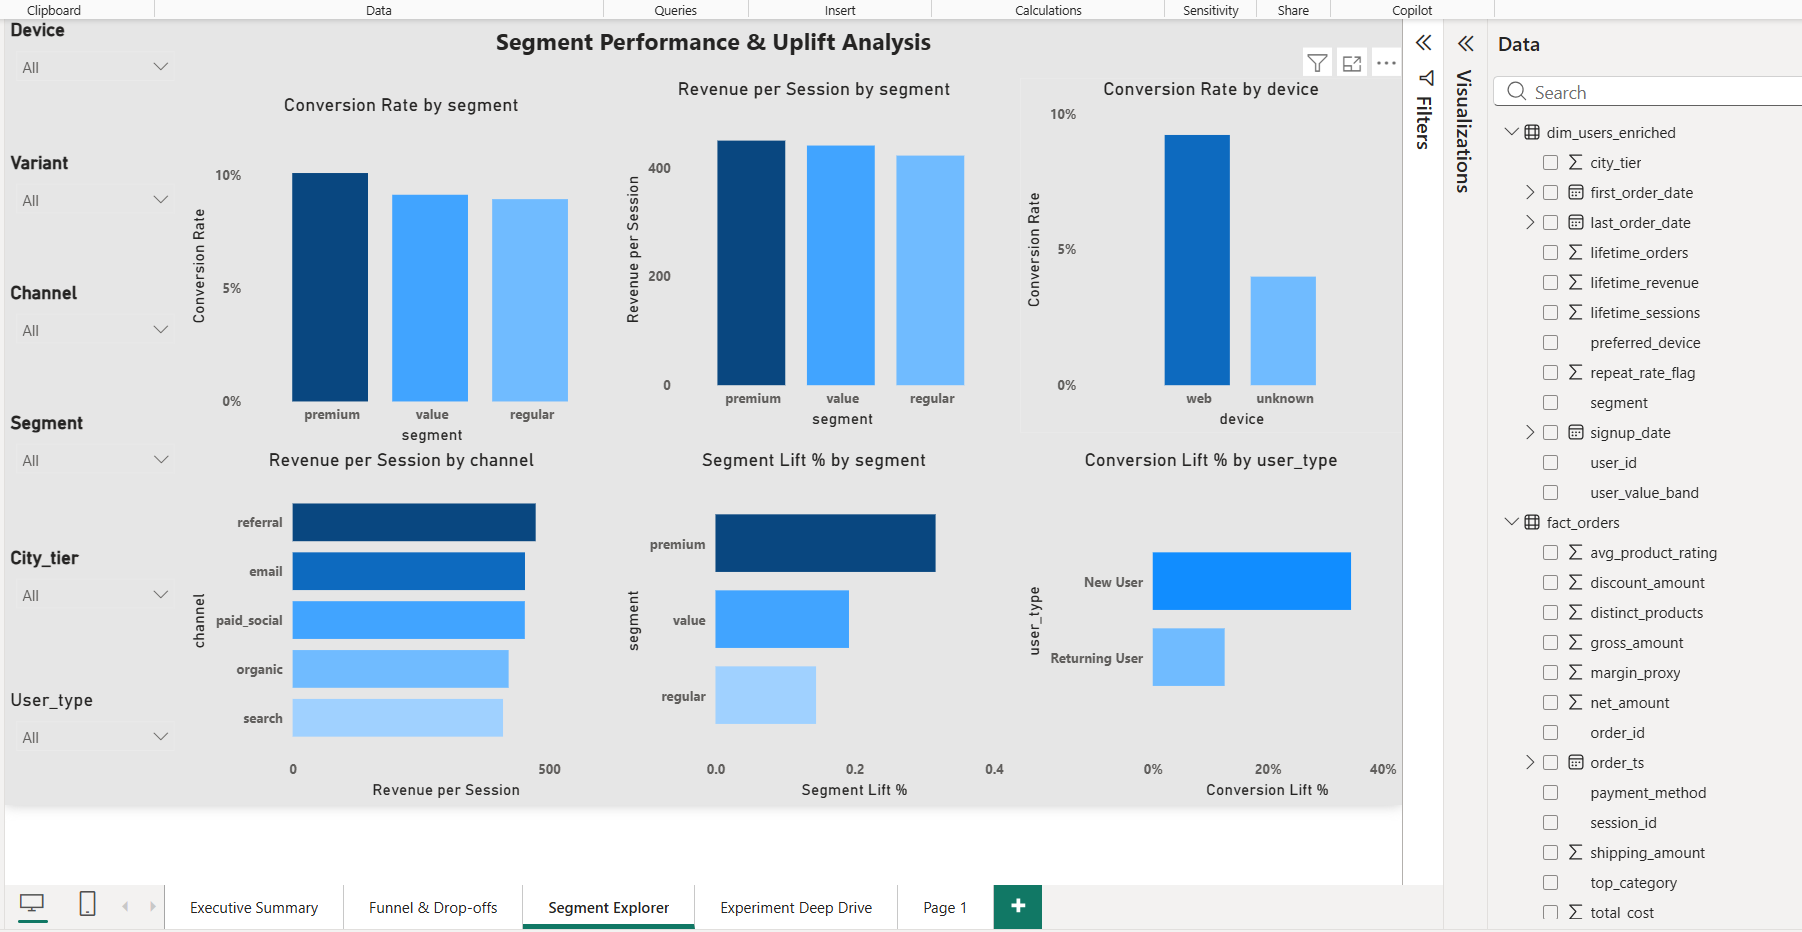

What the dashboard file says about the page in this screenshot:
{"tool":"powerbi","page":{"name":"Segment Explorer","canvas":[1280,720],"ordinal":2},"visuals":[{"type":"slicer","title":"City_tier","fields":{"Values":["dim_users_enriched.city_tier"]},"box":[0,482.7,164.9,106.9],"z":0},{"type":"slicer","title":"Segment","fields":{"Values":["dim_users_enriched.segment"]},"box":[0,359.2,165.3,106.9],"z":1},{"type":"slicer","title":"Channel","fields":{"Values":["fact_sessions.channel"]},"box":[0,240.6,164.9,106.9],"z":2},{"type":"slicer","title":"Device","fields":{"Values":["fact_sessions.device"]},"box":[0,0,164.9,106.9],"z":3},{"type":"slicer","title":"User_type","fields":{"Values":["fact_sessions.user_type"]},"box":[0,613.4,164.9,106.9],"z":4},{"type":"slicer","title":"Variant","fields":{"Values":["fact_sessions.variant"]},"box":[0,121.8,164.9,98],"z":5},{"type":"clusteredColumnChart","fields":{"Category":["dim_users_enriched.segment"],"Y":["measures_.Conversion Rate"]},"box":[165.3,68.4,396.5,325.7],"z":6},{"type":"clusteredColumnChart","fields":{"Category":["dim_users_enriched.segment"],"Y":["measures_.Revenue per Session"]},"box":[561.8,53.4,358,325.7],"z":7},{"type":"clusteredColumnChart","fields":{"Category":["fact_sessions.device"],"Y":["measures_.Conversion Rate"]},"box":[929.7,53.4,350.5,325.7],"z":8},{"type":"barChart","fields":{"Category":["fact_sessions.channel"],"Y":["measures_.Revenue per Session"]},"box":[165.3,394,396.5,325.7],"z":9},{"type":"barChart","fields":{"Category":["dim_users_enriched.segment"],"Y":["measures_.Segment Lift %"]},"box":[561.8,394,358,325.7],"z":10},{"type":"textbox","box":[223.7,0,851.4,41],"z":11},{"type":"barChart","fields":{"Category":["fact_sessions.user_type"],"Y":["measures_.Conversion Lift %"]},"box":[929.7,394,350.5,325.7],"z":12}]}

Visuals, with their boxes on the page's 1280x720 design canvas (x1, y1, x2, y2). These are canvas units, not pixel positions in the 1802x932 screenshot, which may show the page scaled, cropped or inside an application window:
"City_tier" slicer: [left=0, top=483, right=165, bottom=590]
"Segment" slicer: [left=0, top=359, right=165, bottom=466]
"Channel" slicer: [left=0, top=241, right=165, bottom=348]
"Device" slicer: [left=0, top=0, right=165, bottom=107]
"User_type" slicer: [left=0, top=613, right=165, bottom=720]
"Variant" slicer: [left=0, top=122, right=165, bottom=220]
clusteredColumnChart - dim_users_enriched.segment x measures_.Conversion Rate: [left=165, top=68, right=562, bottom=394]
clusteredColumnChart - dim_users_enriched.segment x measures_.Revenue per Session: [left=562, top=53, right=920, bottom=379]
clusteredColumnChart - fact_sessions.device x measures_.Conversion Rate: [left=930, top=53, right=1280, bottom=379]
barChart - fact_sessions.channel x measures_.Revenue per Session: [left=165, top=394, right=562, bottom=720]
barChart - dim_users_enriched.segment x measures_.Segment Lift %: [left=562, top=394, right=920, bottom=720]
textbox: [left=224, top=0, right=1075, bottom=41]
barChart - fact_sessions.user_type x measures_.Conversion Lift %: [left=930, top=394, right=1280, bottom=720]
